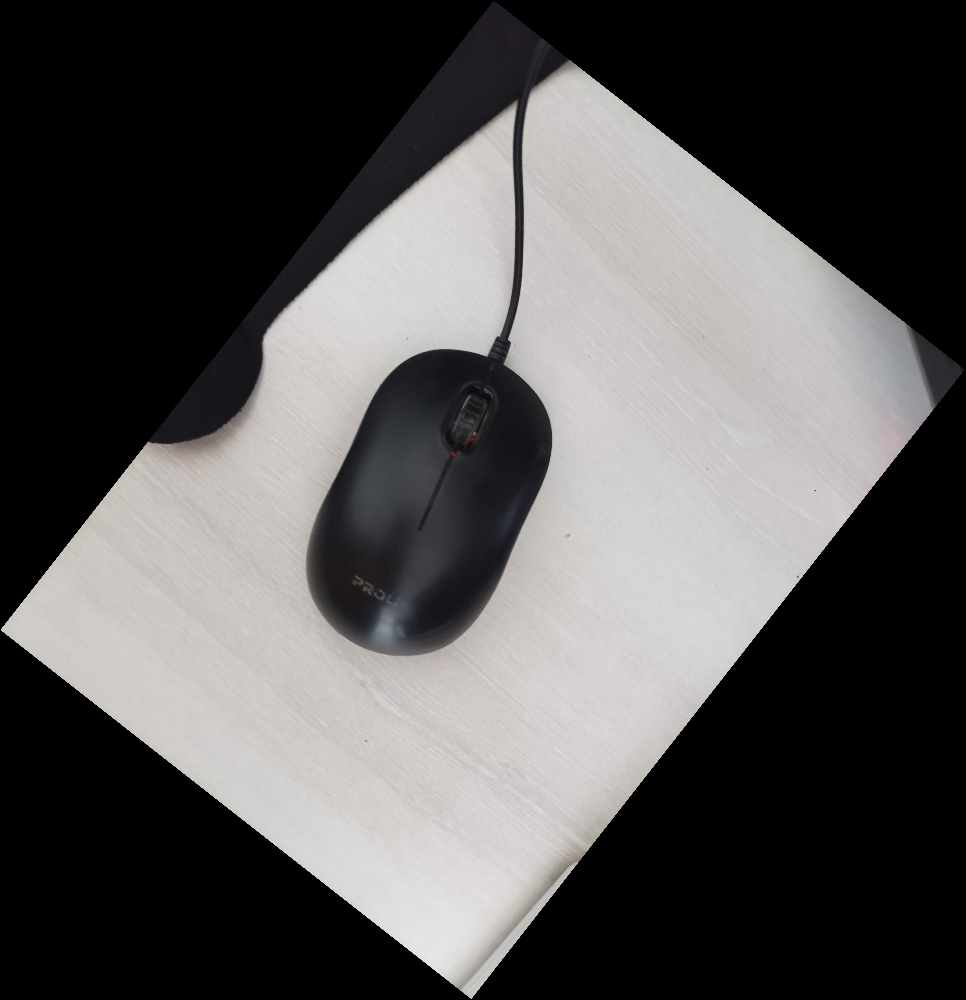mouse: (301, 341, 556, 659)
